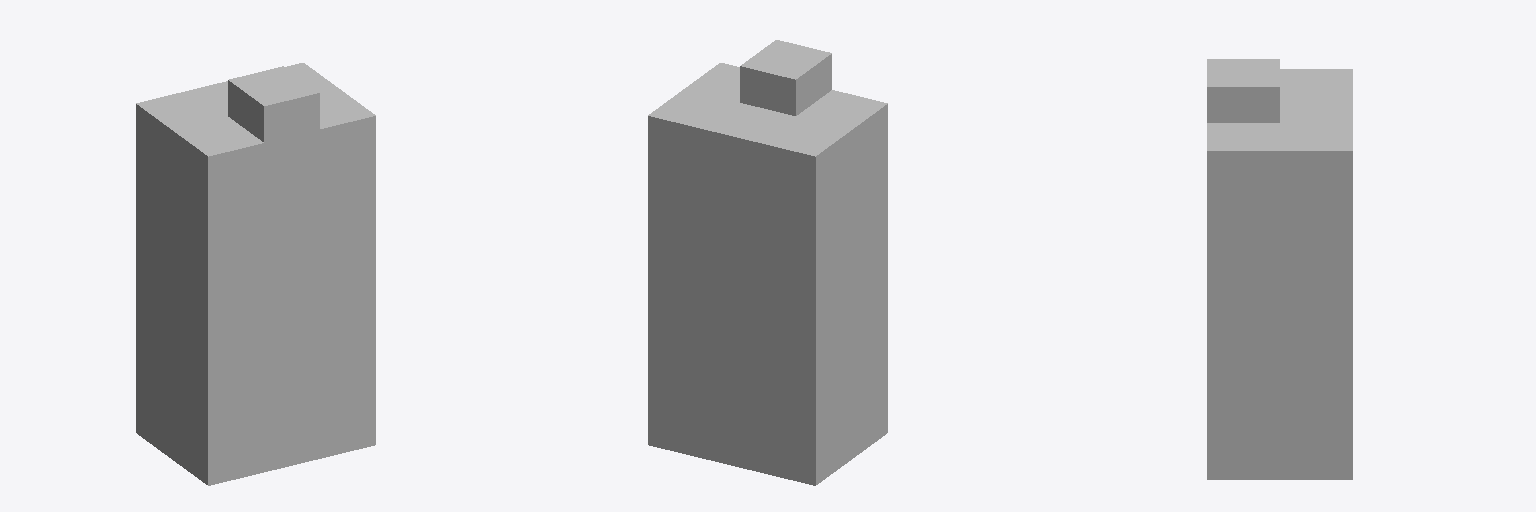
The model's file is EdificioLP2.obj.
The picture shows the model from 3 angles: view 1: azimuth 30°, elevation 25°; view 2: azimuth 150°, elevation 25°; view 3: azimuth 270°, elevation 25°; orthographic projection.
Visible parts, largest first — view 1: Box001.001; view 2: Box001.001; view 3: Box001.001.
Part boxes in pixels (x1,y1,x2,y2): Box001.001: (136,63,375,485); Box001.001: (648,40,887,485); Box001.001: (1207,59,1352,479).
Size of the model in its own units: 0.72 by 1.5 by 0.54.